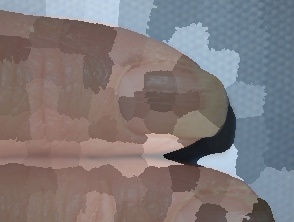Nail_psoriasis: (161, 101, 222, 146)
